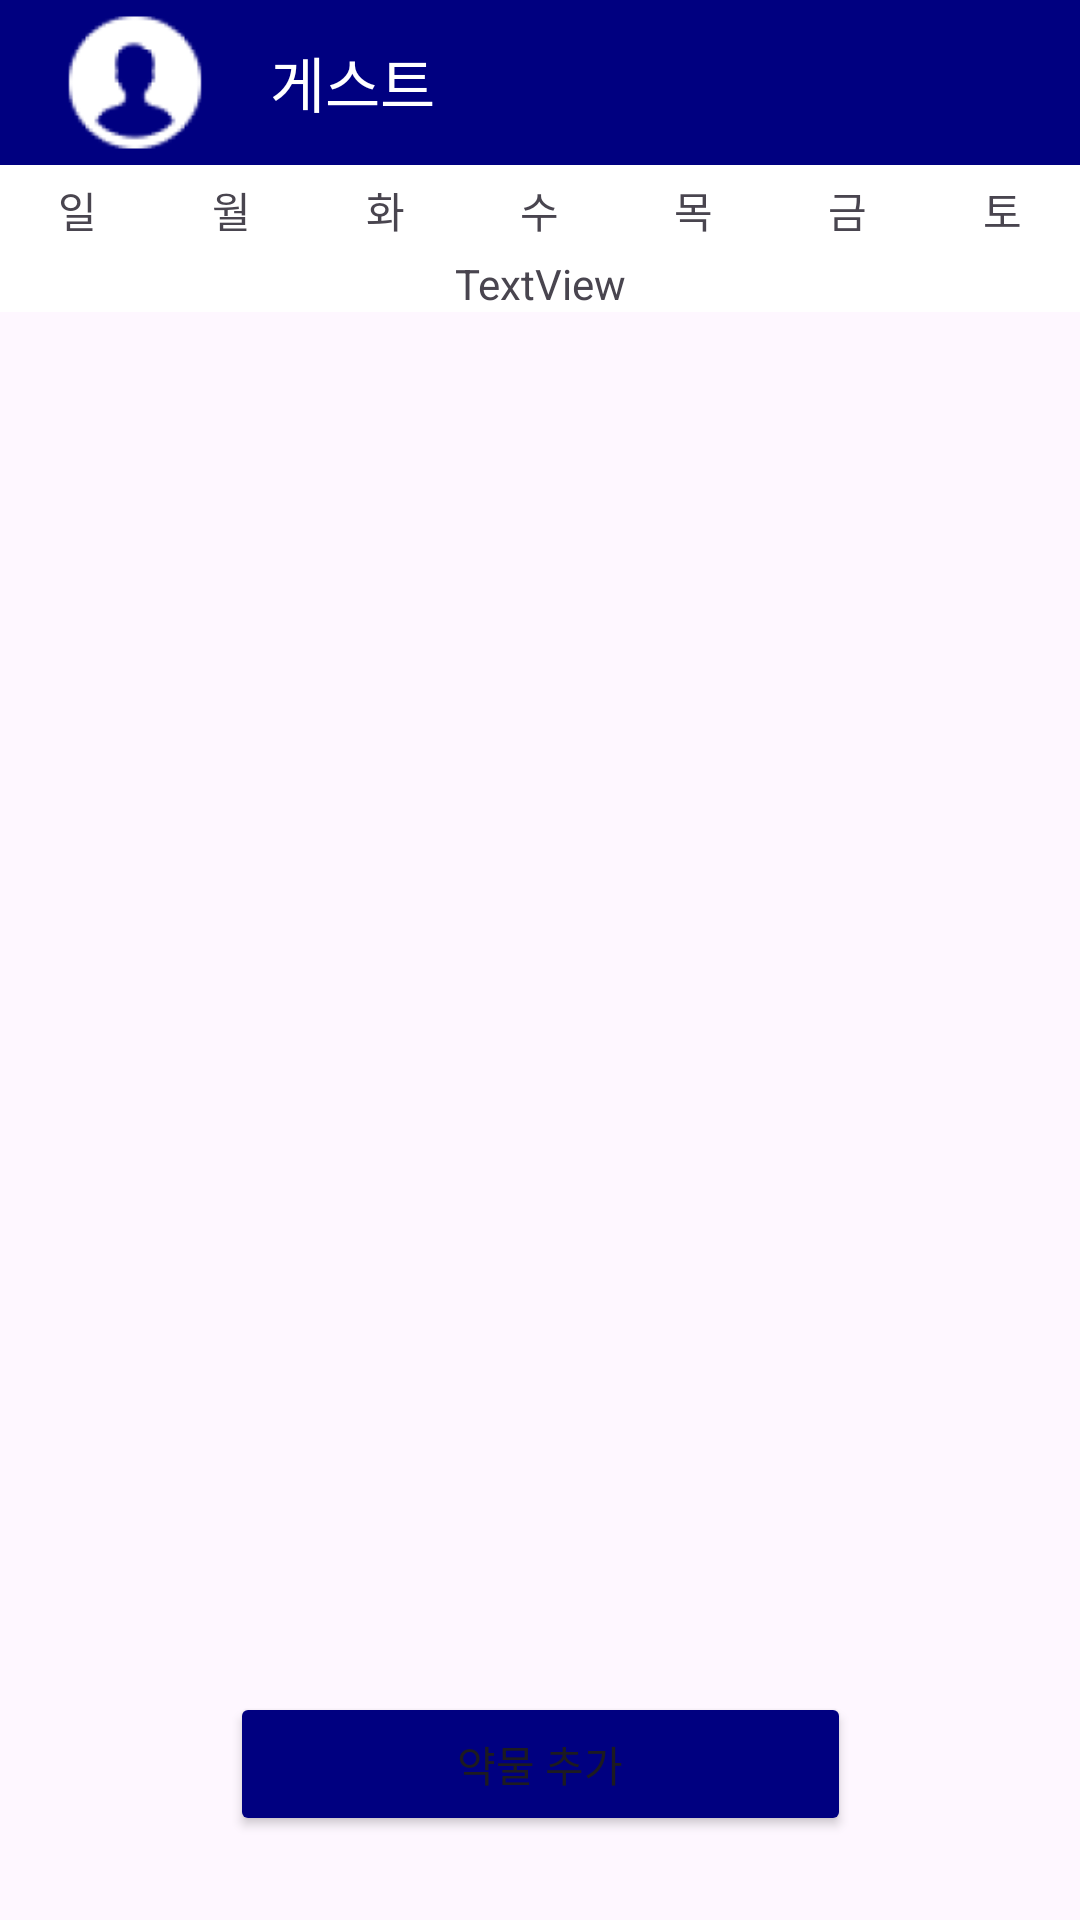

Where icons sit on this 1080px×1920px app screen, as (x1, y1, x2, y2):
guest: (68, 16, 202, 149)
